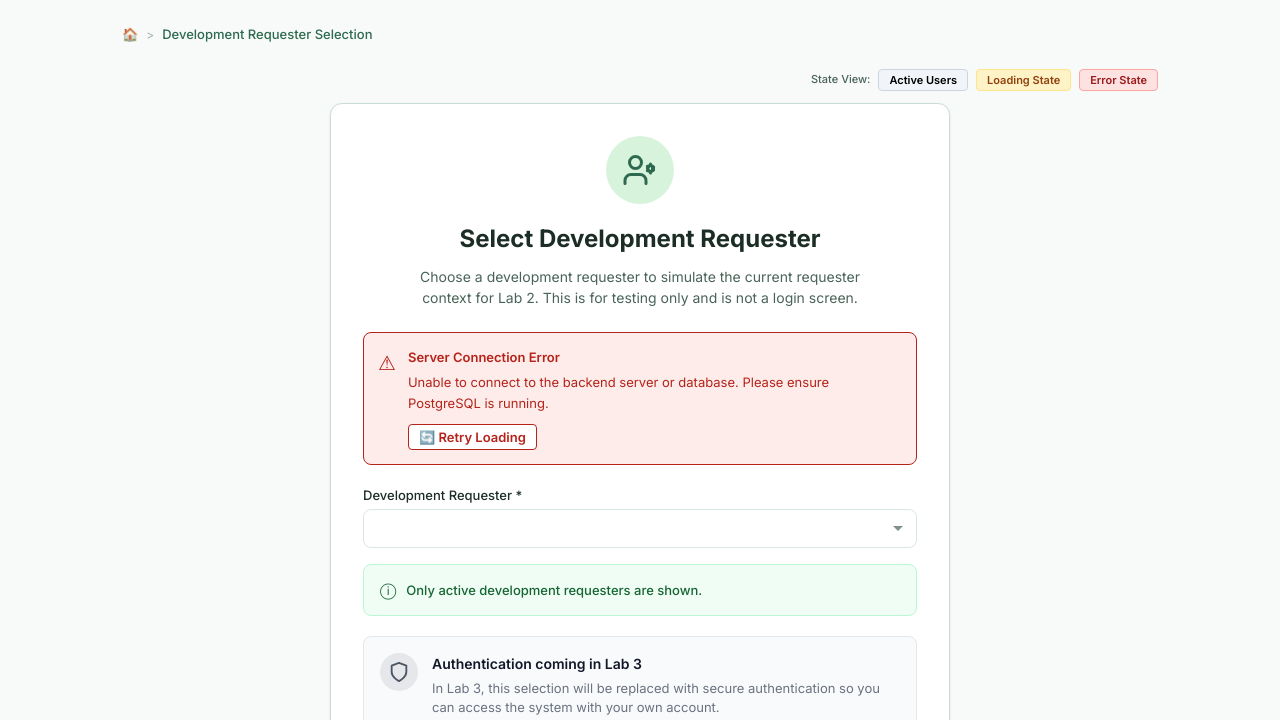
Test: SelectRequesterPage (Section 8.1) › handles safe API-failure state and allows retry
Expected: the message is shown, [363, 332, 917, 465]
Expected: the text "Unable to connect to the backend server" is shown, [408, 374, 829, 411]
Click the button "🔄 Retry Loading": click(472, 437) [408, 424, 537, 450]
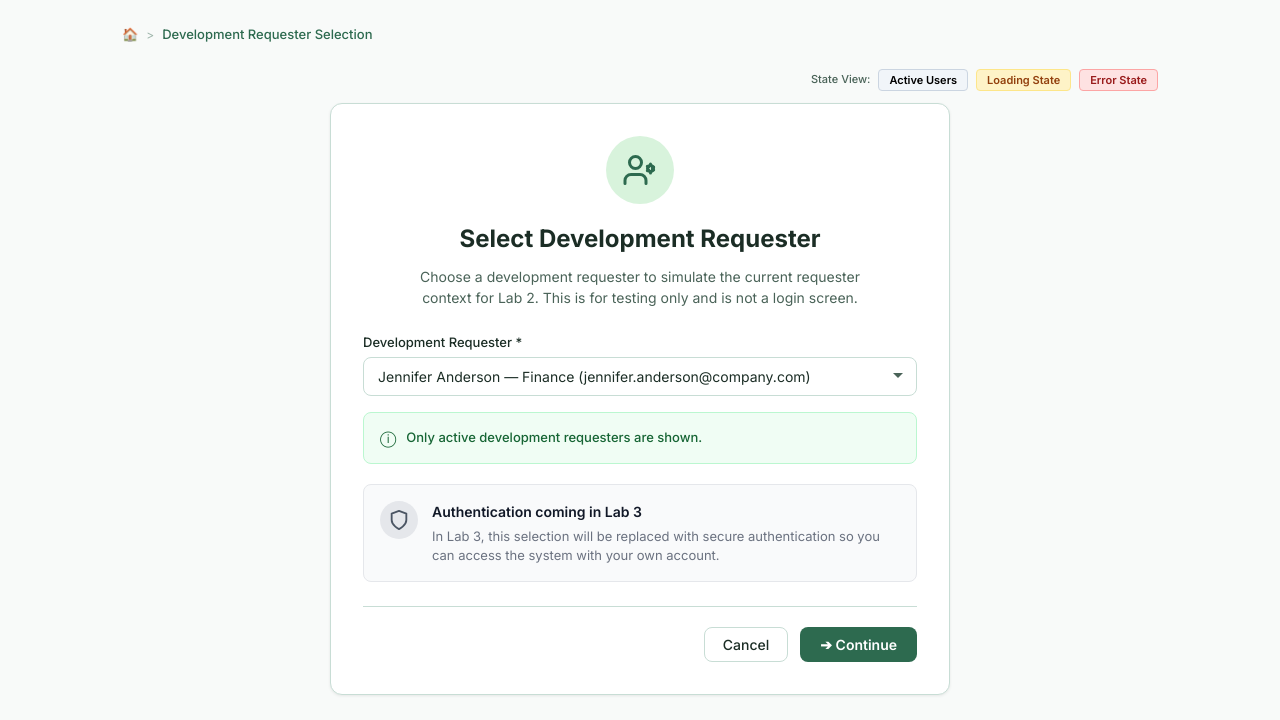
Expected: the dropdown is shown, [363, 357, 917, 396]
Expected: the message is gone
